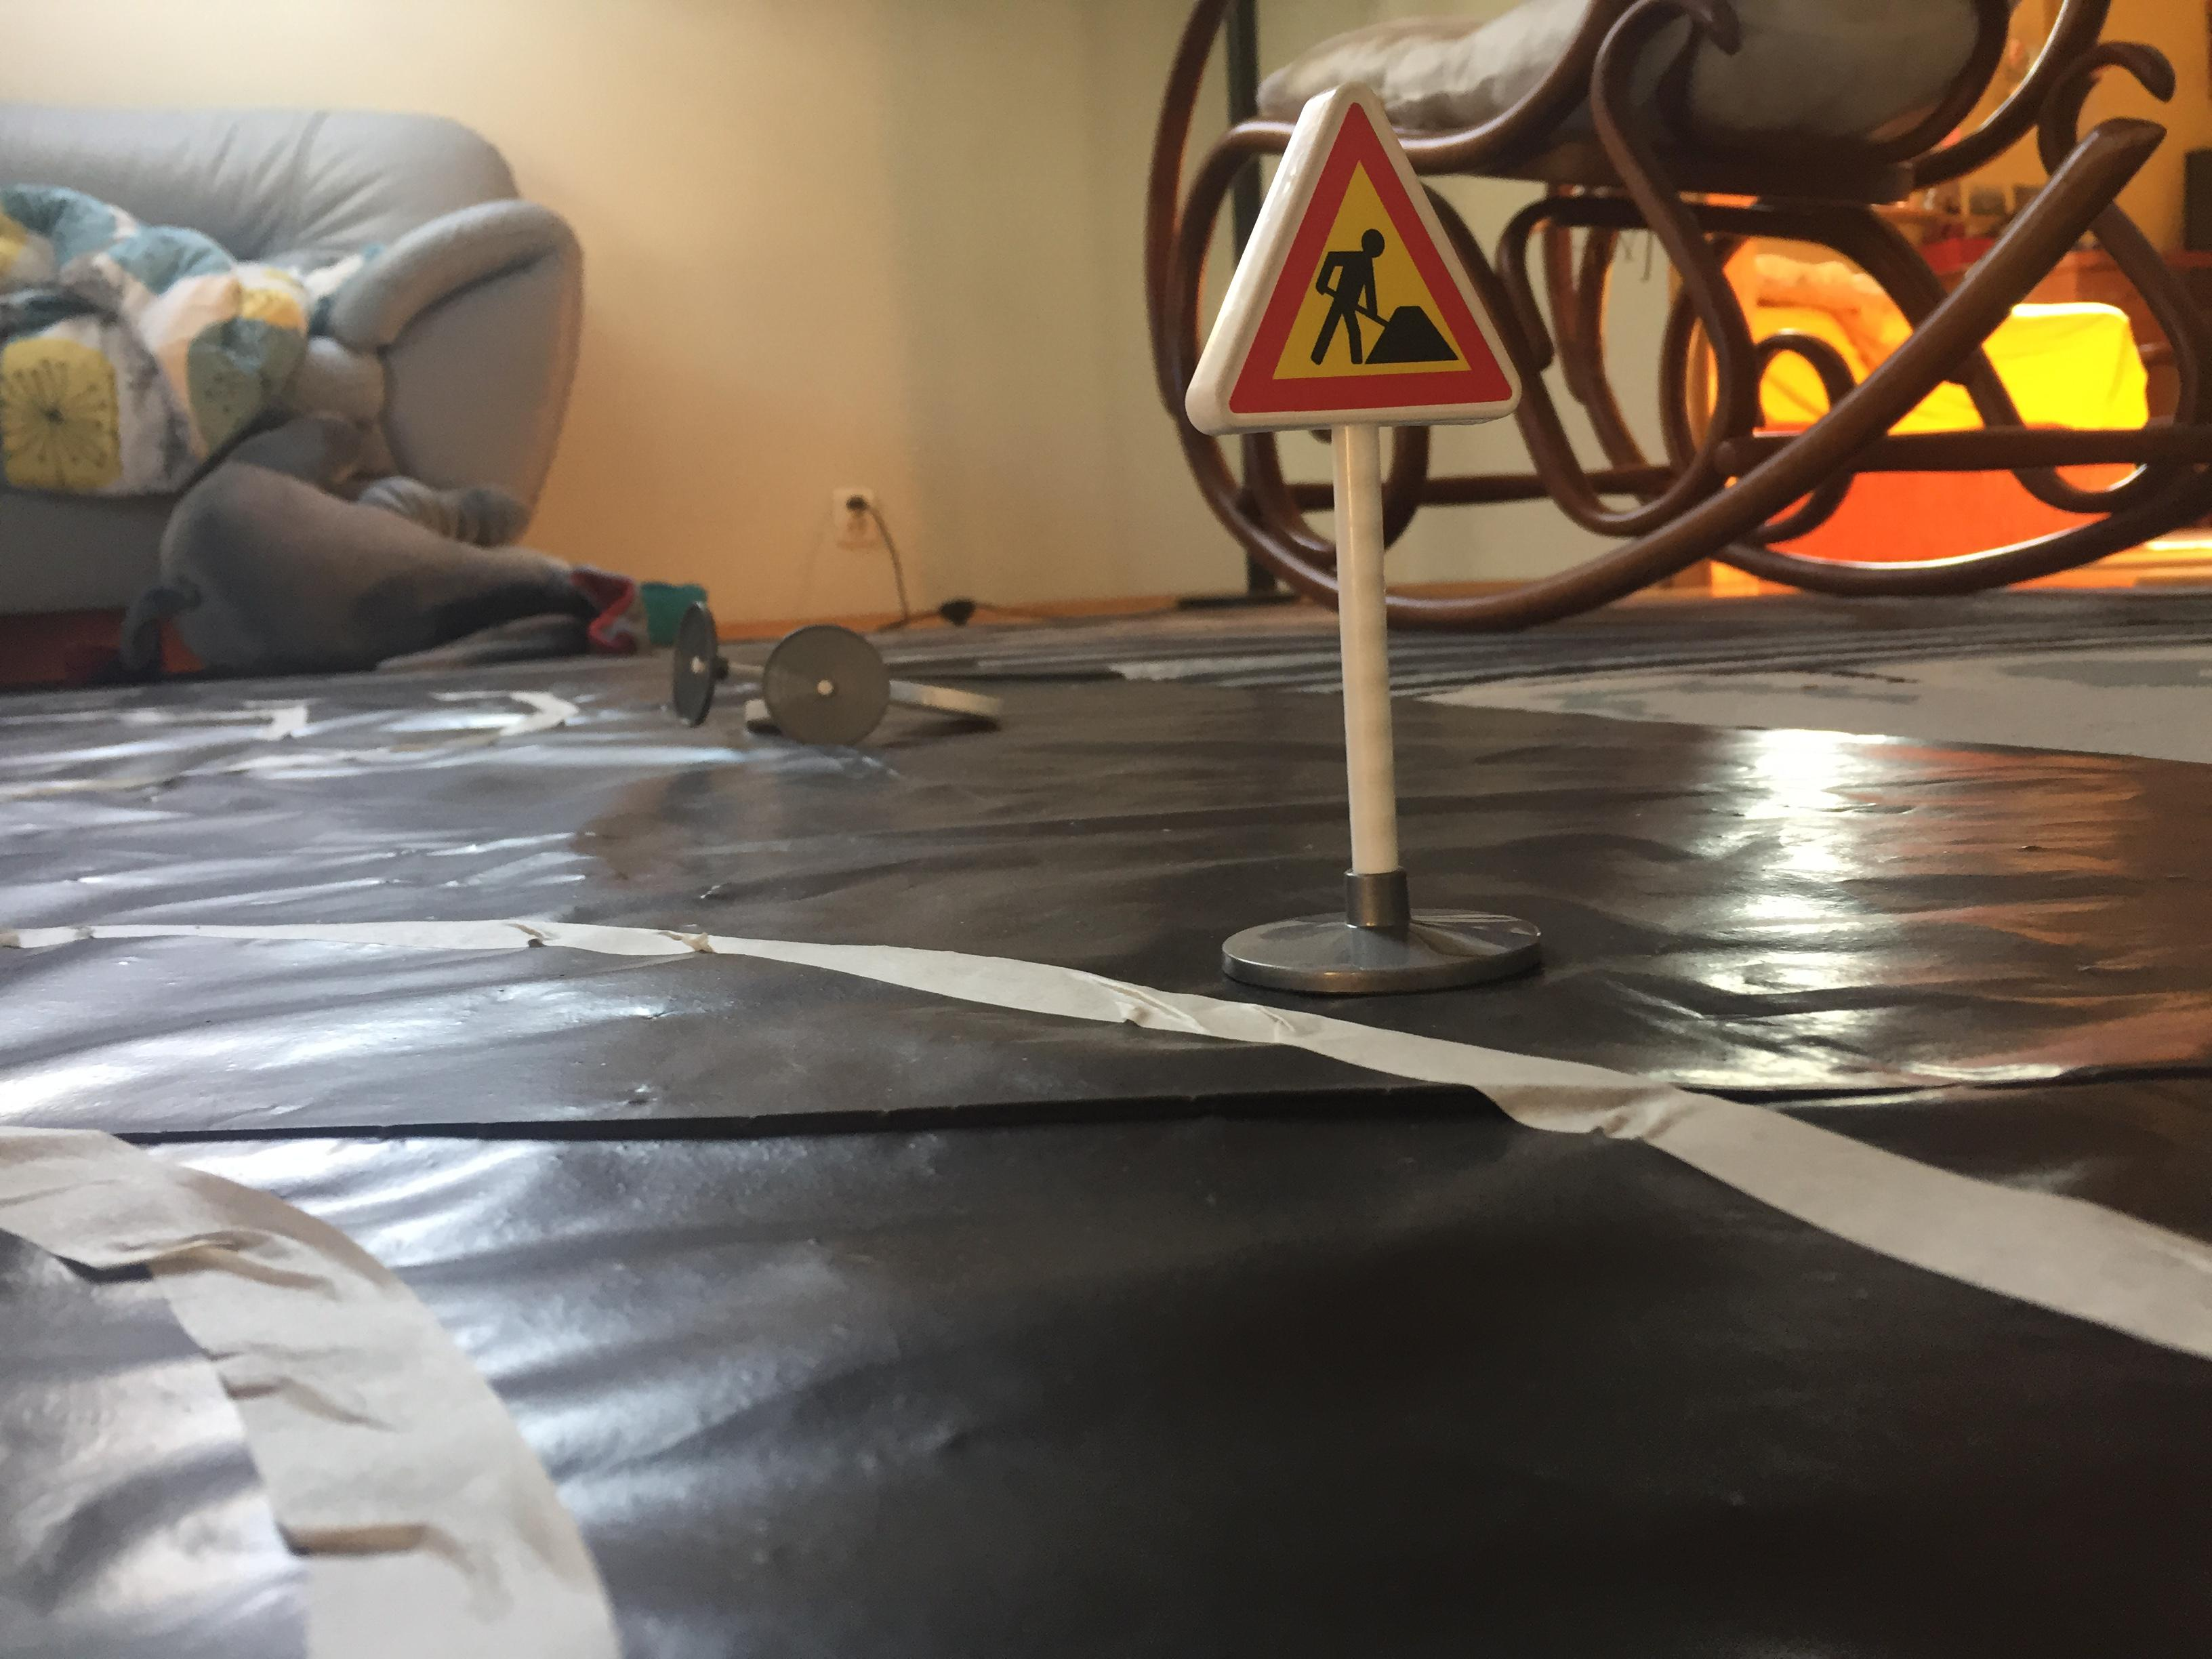work: (1162, 77, 1548, 464)
